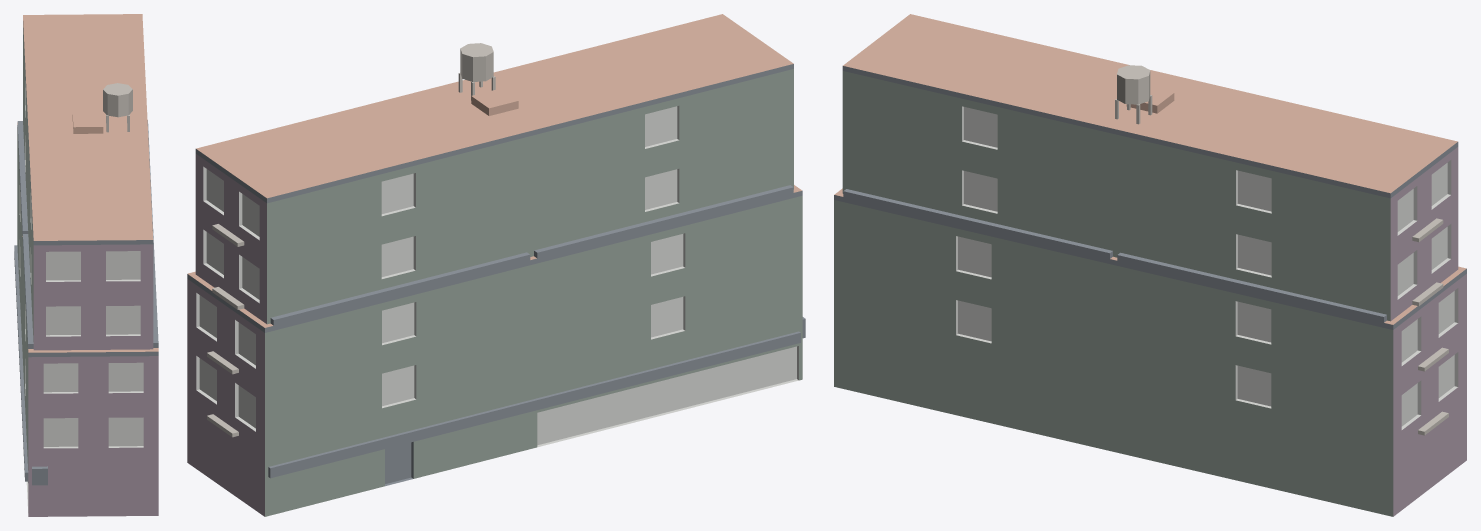
Rendered from doitt-812702__lod_0.glb.
The picture shows the model from 3 angles, left to right: view 1: azimuth 30°, elevation 25°; view 2: azimuth 150°, elevation 25°; view 3: azimuth 270°, elevation 25°; orthographic projection. The views are drawn at different scales.
Size of the model in its own units: 21.14 by 19.19 by 30.2.
